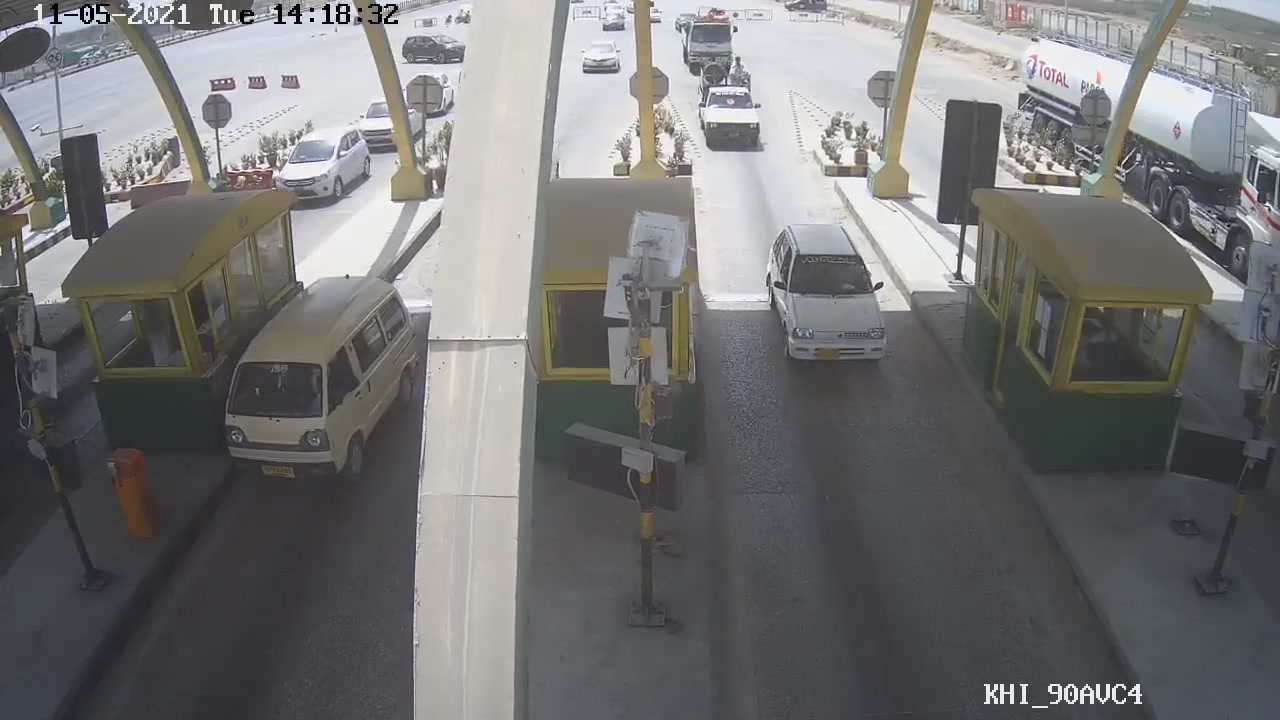F1: (754, 213, 898, 370)
